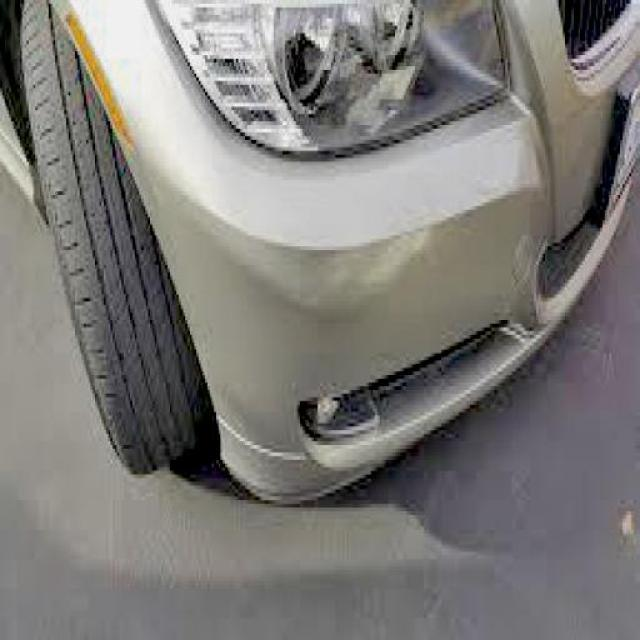car damage: (237, 207, 430, 325)
